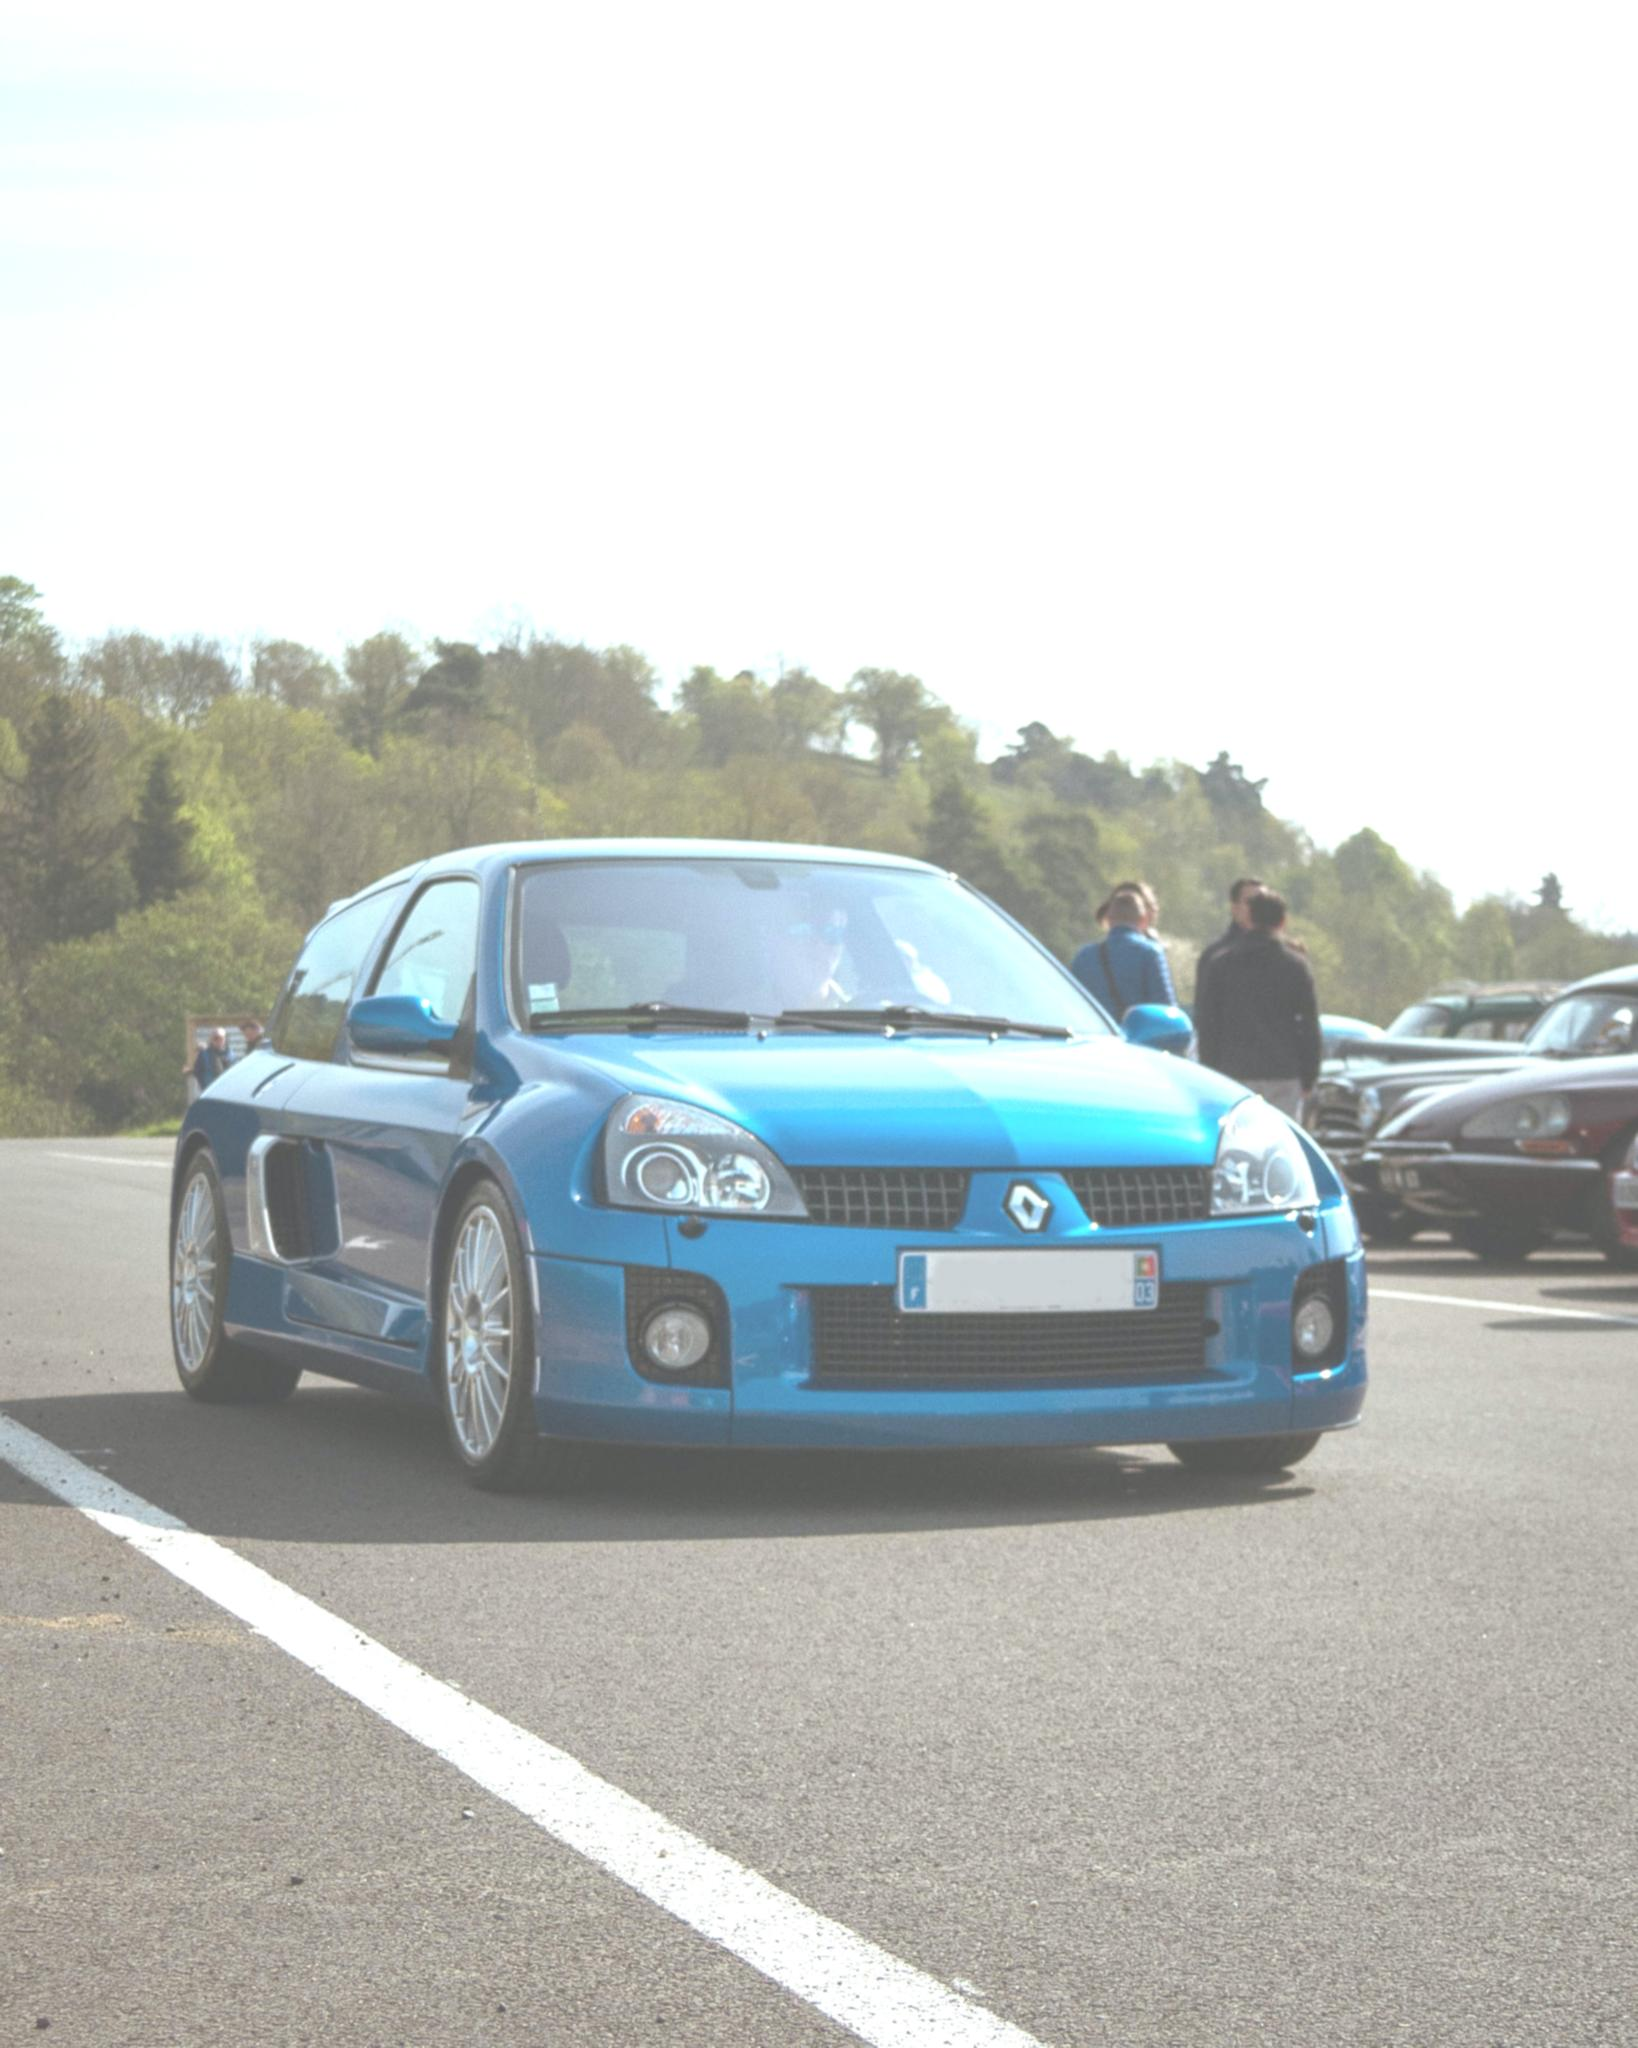Renault: (988, 1174, 1070, 1246)
